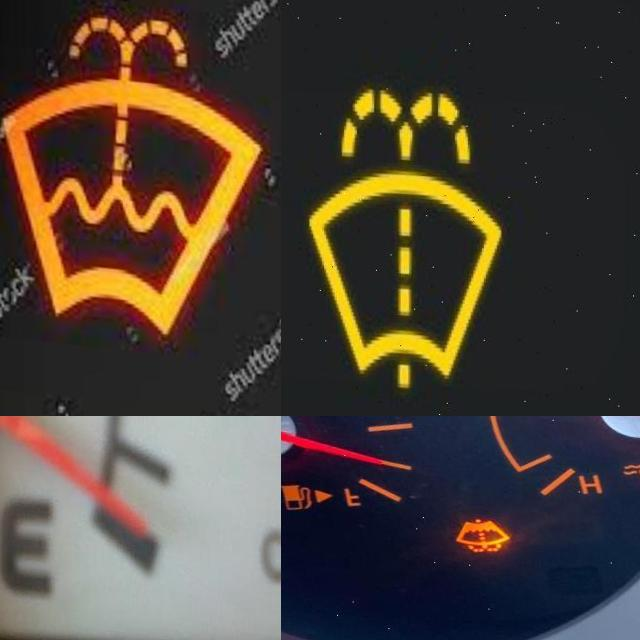Washer Fluid: (298, 73, 508, 393), (449, 506, 509, 549)
